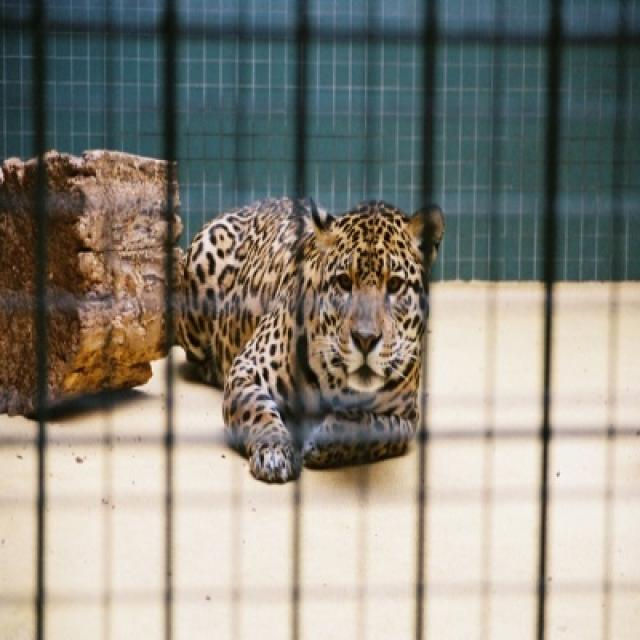Jaguar: (170, 198, 445, 486)
